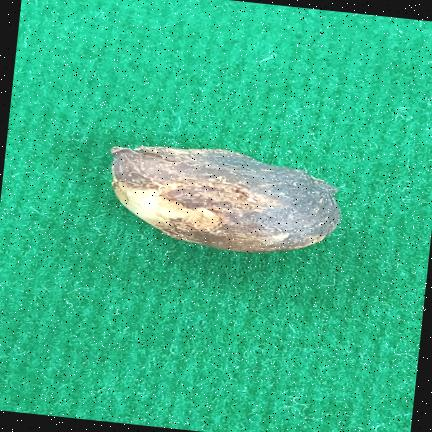full-black: (112, 147, 340, 252)
